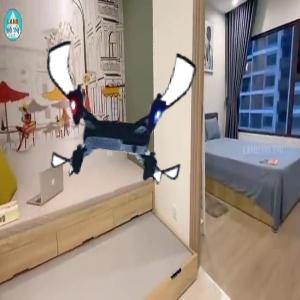drone: (39, 35, 193, 189)
